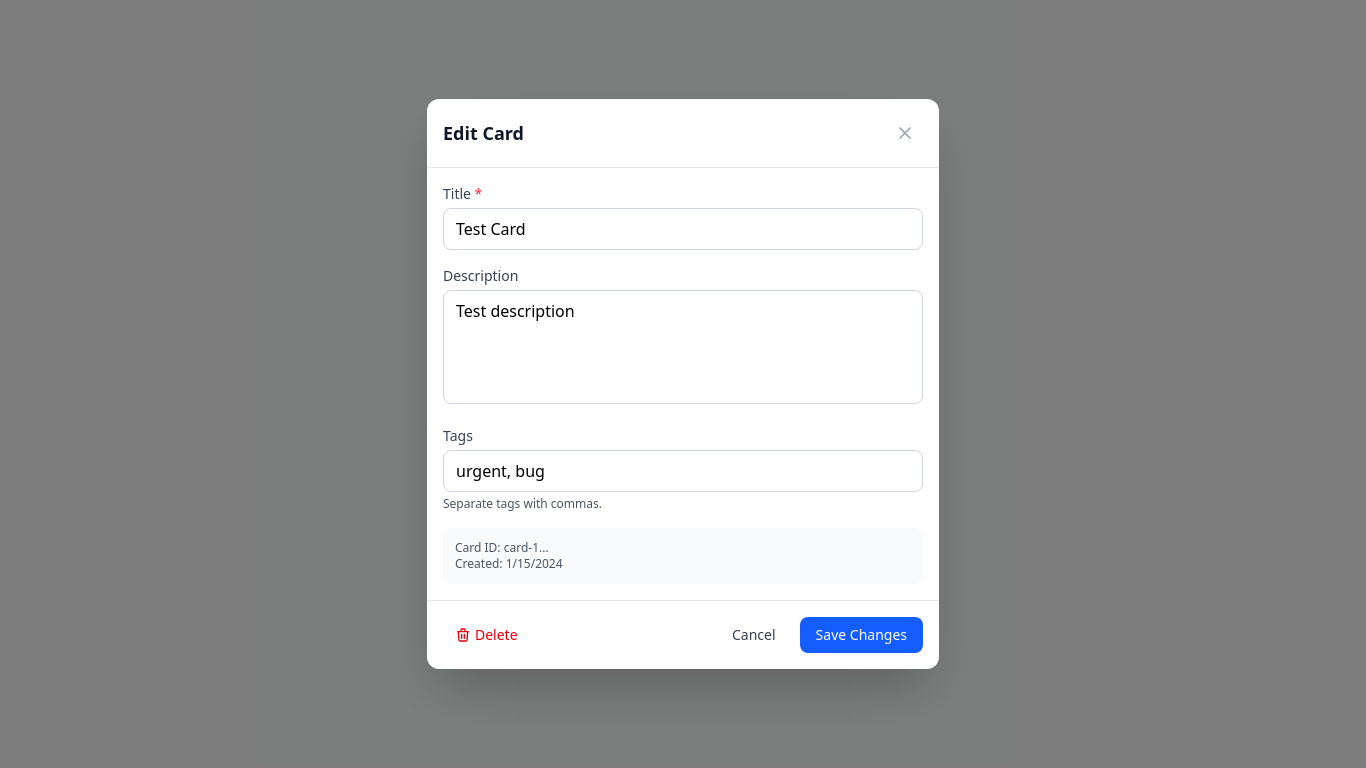
Test case: CardDetailModal › Validation › should show error for empty title
Clear the field with test id "card-title-input" at (683, 229), box [443,208,923,250]
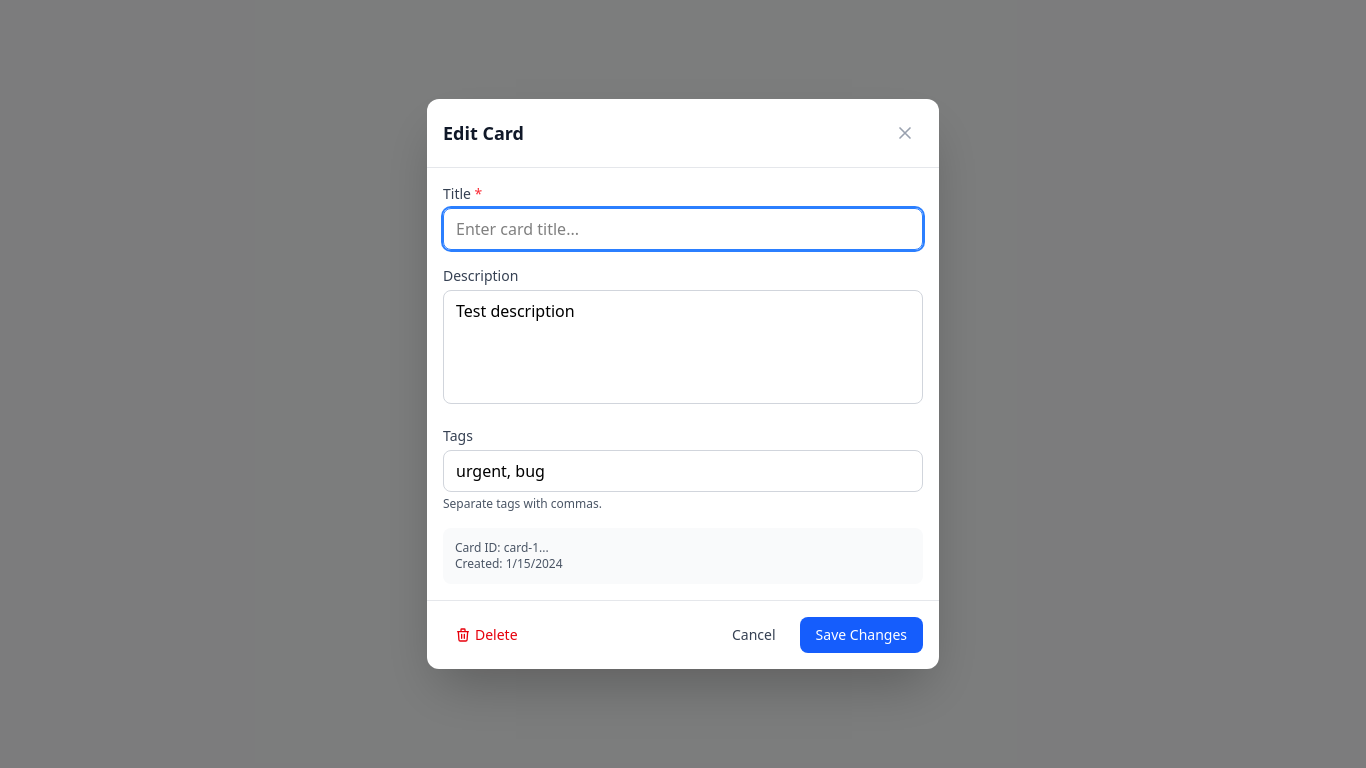
Click the button with test id "save-card-button".
click(861, 635)  # box [800,617,923,653]
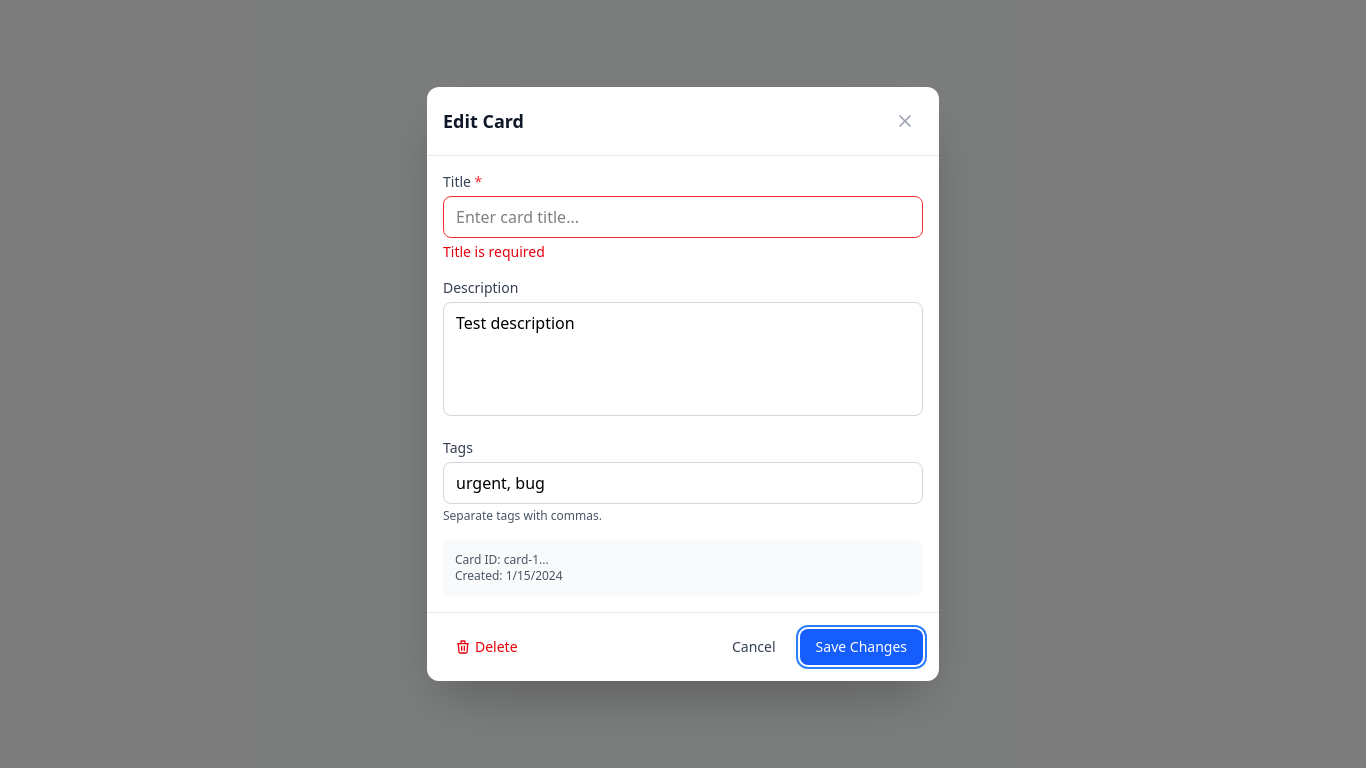
expect the text "Title is required" is shown: met, box [443,242,545,261]
